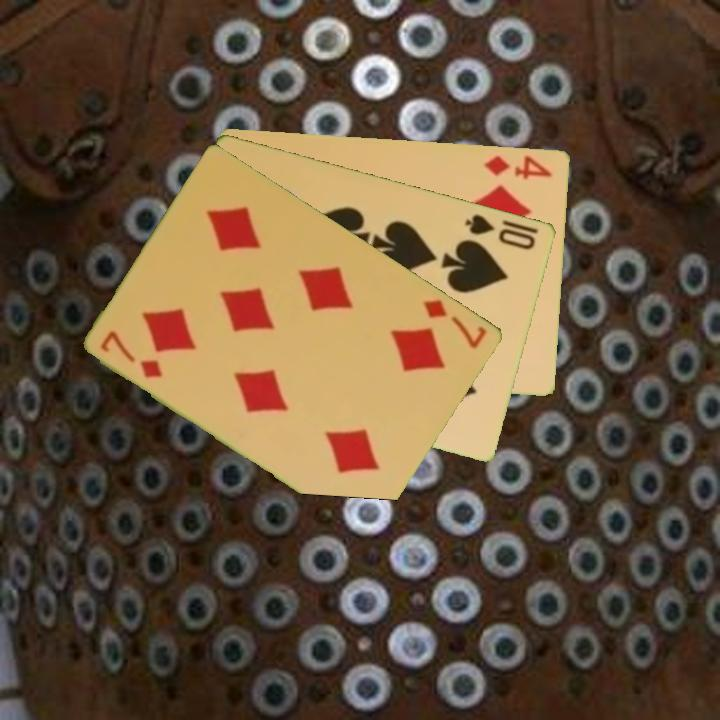10s: (462, 210, 539, 253)
4d: (481, 151, 556, 182)
7d: (420, 295, 490, 352), (97, 327, 166, 382)
